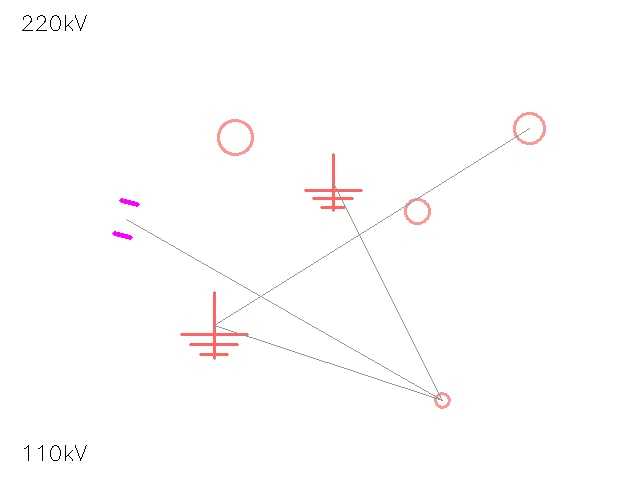capacitor: (98, 191, 154, 247)
current_transformer: (201, 103, 269, 171), (498, 97, 560, 159)
disconnect_switch: (392, 186, 442, 236)
ground: (181, 292, 247, 358), (305, 154, 361, 210)
reactor: (427, 385, 457, 415)
